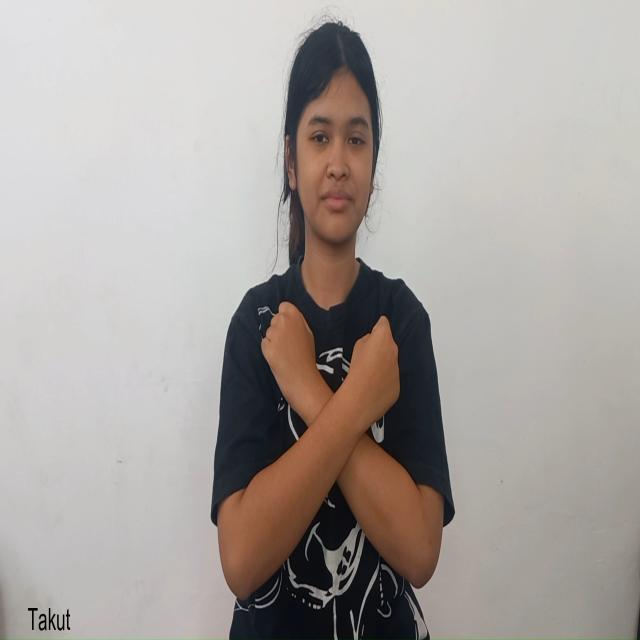Takut -BISINDO-: (252, 277, 422, 583)
